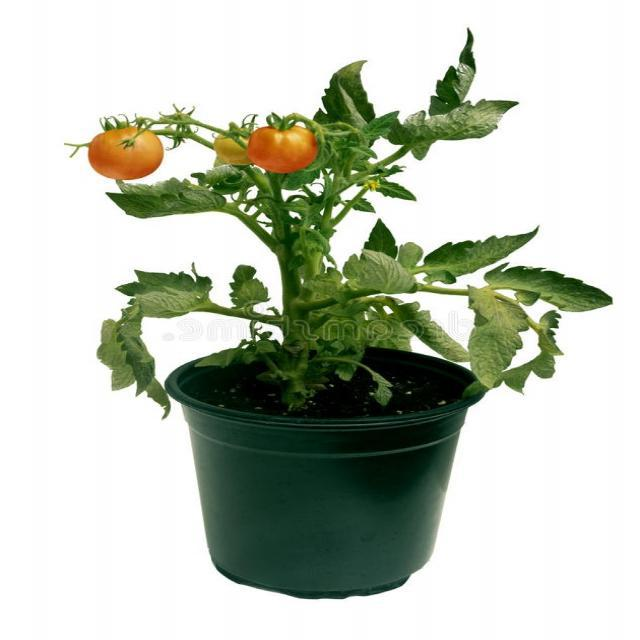tomato: (87, 31, 613, 414)
